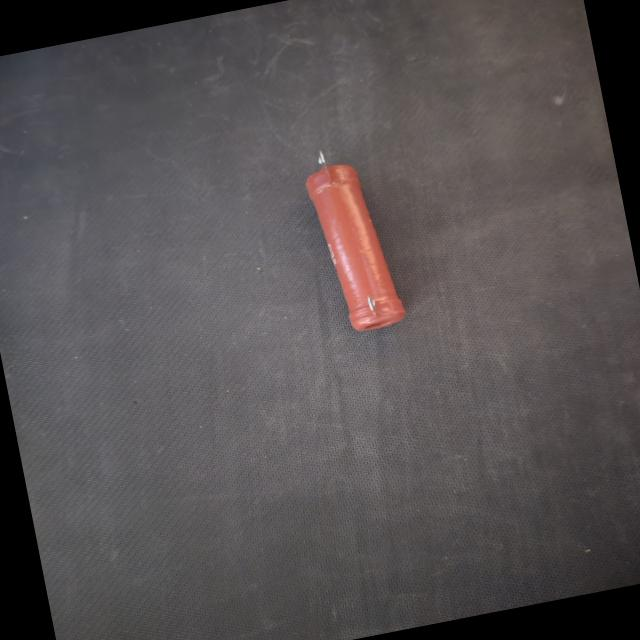resistor: (294, 134, 418, 355)
